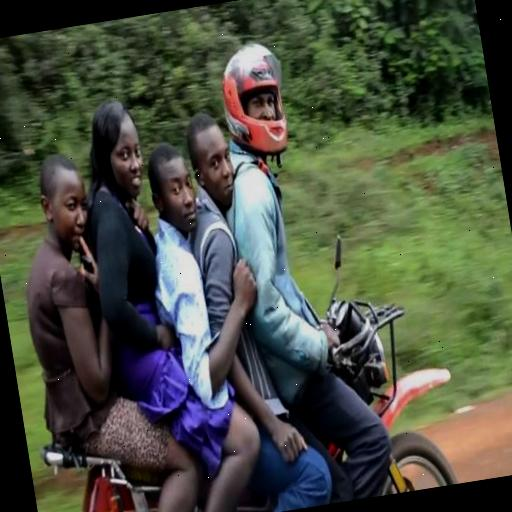helmet: (198, 26, 325, 192)
triple riding: (0, 10, 465, 512)
